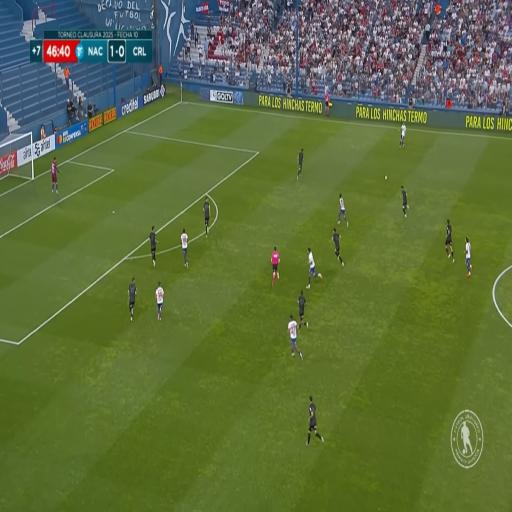Ball: (384, 175, 388, 180)
Player: (308, 392, 319, 444), (331, 228, 344, 272), (288, 314, 299, 358), (308, 246, 318, 289), (298, 289, 307, 331), (128, 276, 137, 316), (463, 234, 472, 274), (446, 222, 454, 261), (181, 228, 189, 266), (400, 184, 408, 221), (156, 283, 164, 319), (338, 194, 347, 224), (296, 150, 304, 182), (52, 155, 58, 194), (150, 227, 156, 266), (204, 197, 210, 234), (399, 124, 405, 147)
Referee: (273, 248, 279, 286)
